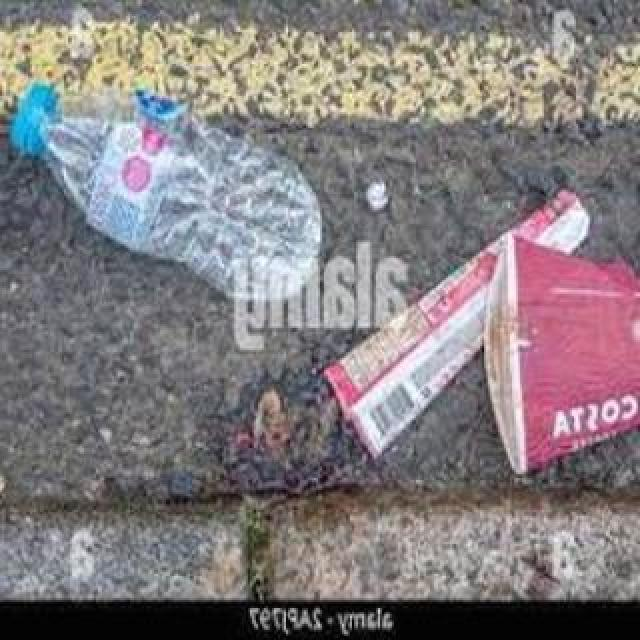Pet_Bottle: (4, 69, 328, 333)
